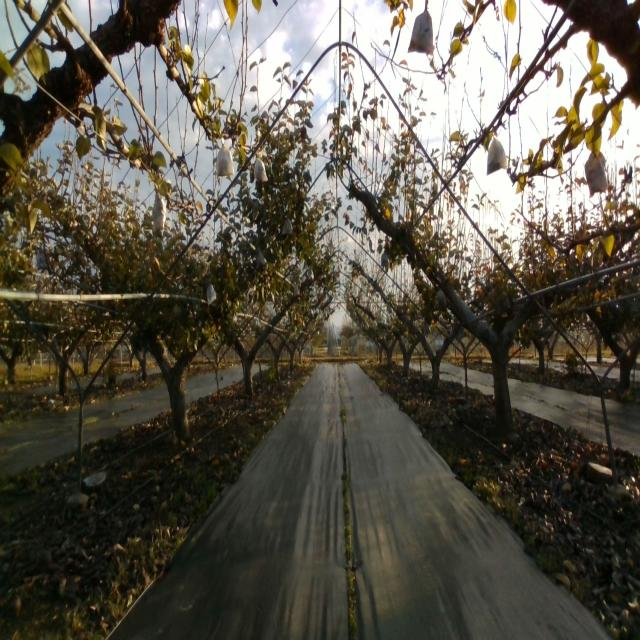pearbags: (407, 0, 433, 55), (584, 150, 608, 198), (487, 136, 508, 176), (152, 184, 167, 237), (217, 138, 233, 176), (254, 153, 268, 183), (256, 245, 268, 270), (206, 282, 217, 307), (434, 289, 447, 310), (282, 214, 293, 236)
